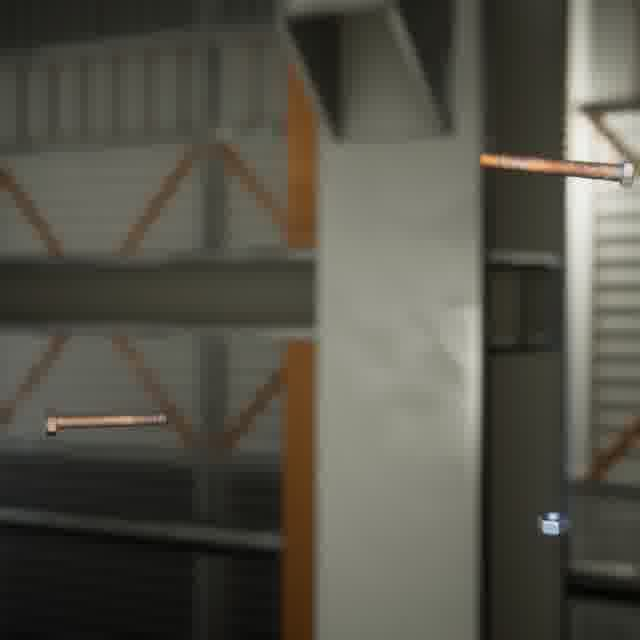bolt: (475, 148, 638, 191), (40, 404, 172, 440)
nut: (533, 506, 574, 538)
